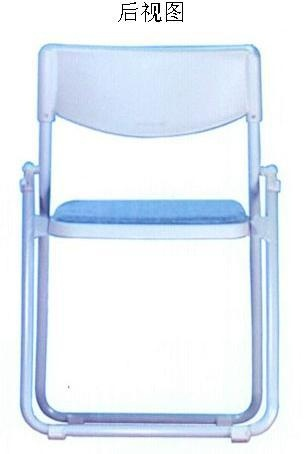obstacle: (20, 44, 279, 441)
